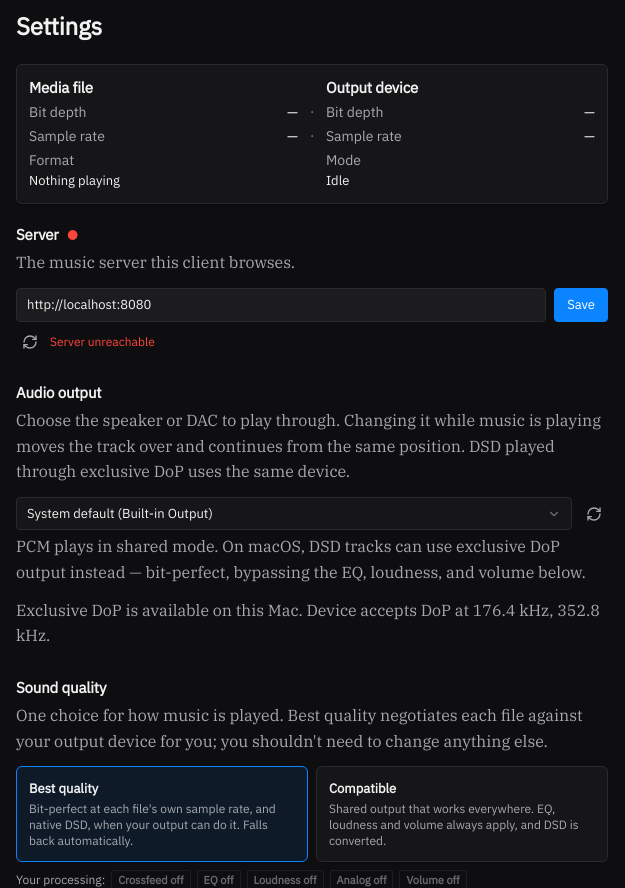
Scenario: Settings: server URL › checks the connection on demand
This screenshot has width=625, height=888.
Expected: the element with test id "connection-status" reads "Server unreachable", [50, 334, 155, 349]
Click the button named "Check connection".
click(30, 342)  # box [16, 330, 44, 354]
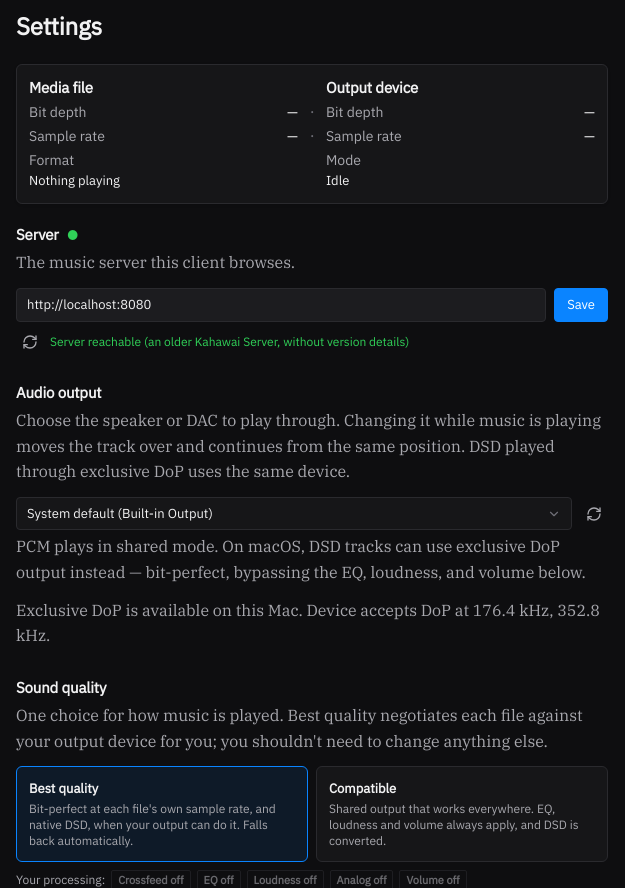
Result: the element with test id "connection-status" shows "Server reachable" at [50, 334, 409, 349]
